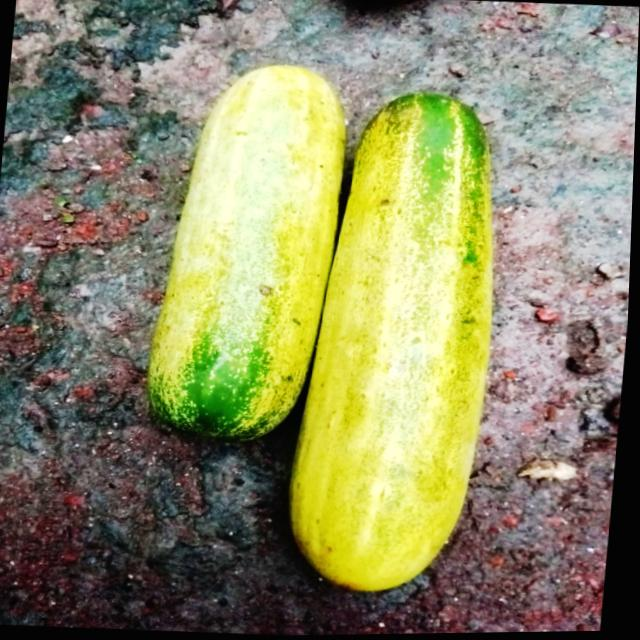Fresh-Cucumber: (283, 87, 516, 601), (141, 55, 355, 456)
